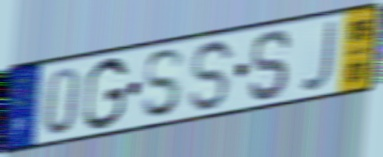0: (42, 65, 82, 137)
G: (82, 55, 130, 133)
J: (298, 17, 339, 94)
S: (188, 37, 238, 115), (247, 27, 294, 104), (140, 46, 187, 121)
